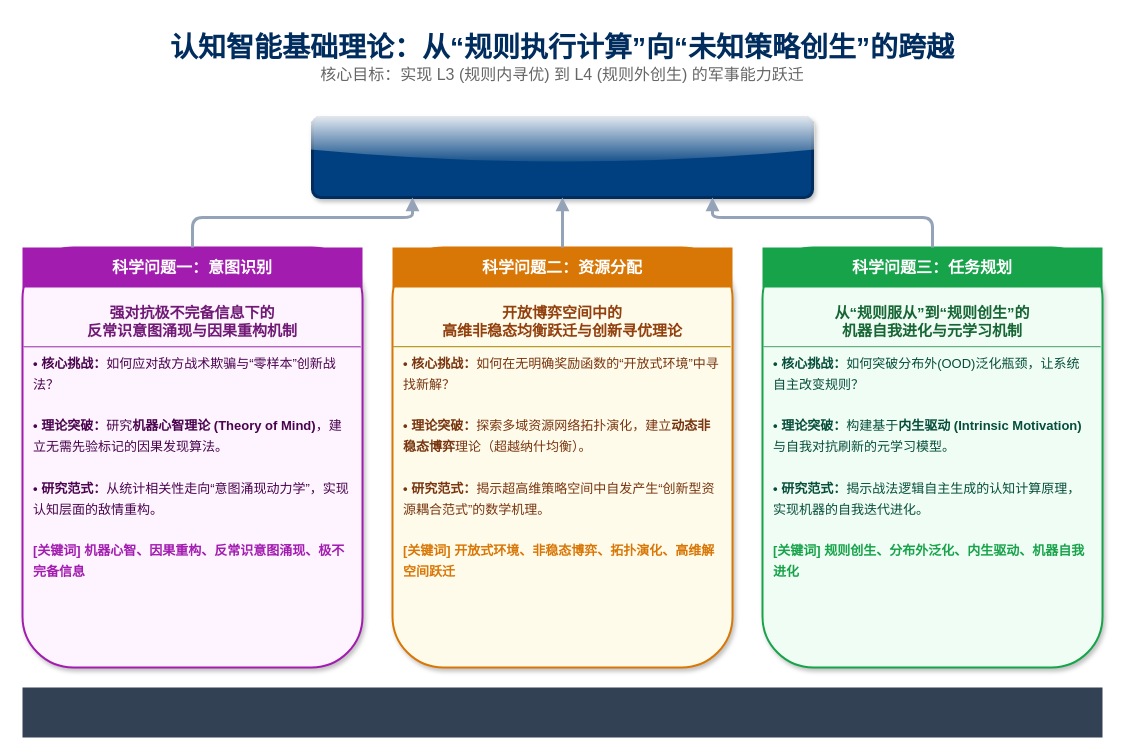
Some shapes in this 1126 by 754 pixel diagram are drawn without their labels. The shapes that lost their labels are listed below. From the top down, each one's centre as x and y in pixels, then its label:
the point at 563,159: 认知智能革命 (L4 Vision) 突破“数据驱动+奖励拟合”范式，构建“不可预测且绝对理性”的任务生成架构
the point at 562,712: 基础学科交叉支撑：数学建模 | 控制理论 | 演化博弈 | 认知心理学 | 强化学习
